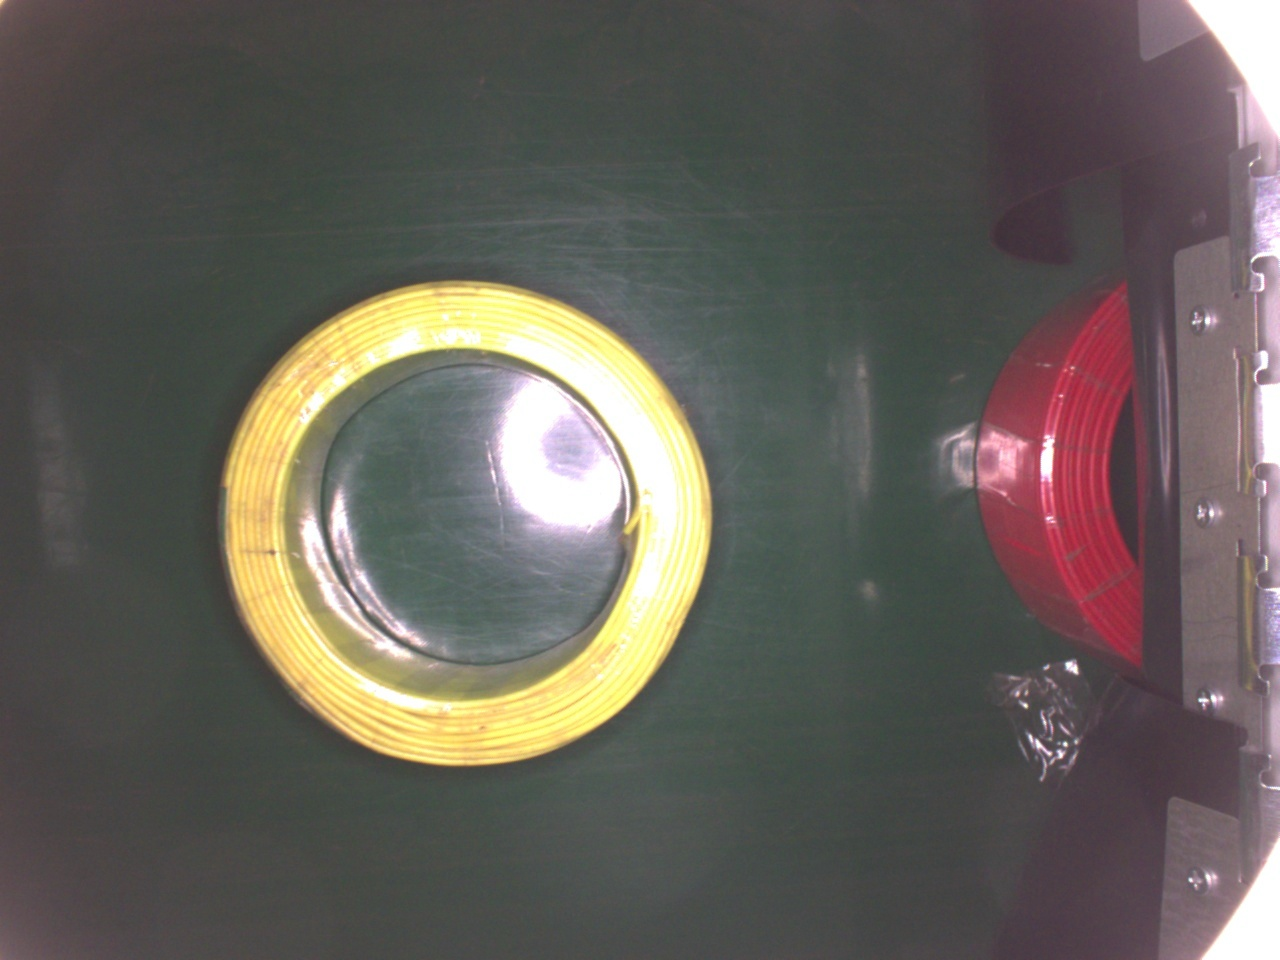red: (972, 263, 1162, 665)
yellow: (212, 273, 716, 770)
